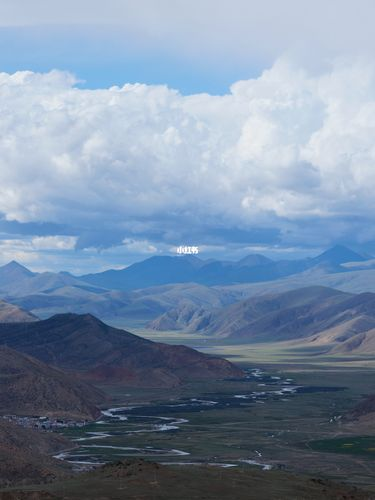mountain: (14, 240, 344, 345), (14, 304, 268, 408)
sky_cloud: (11, 53, 375, 250)
